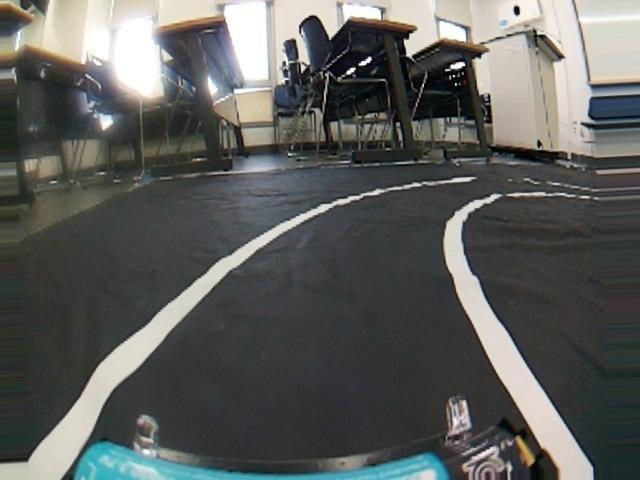straight: (1, 254, 625, 480)
